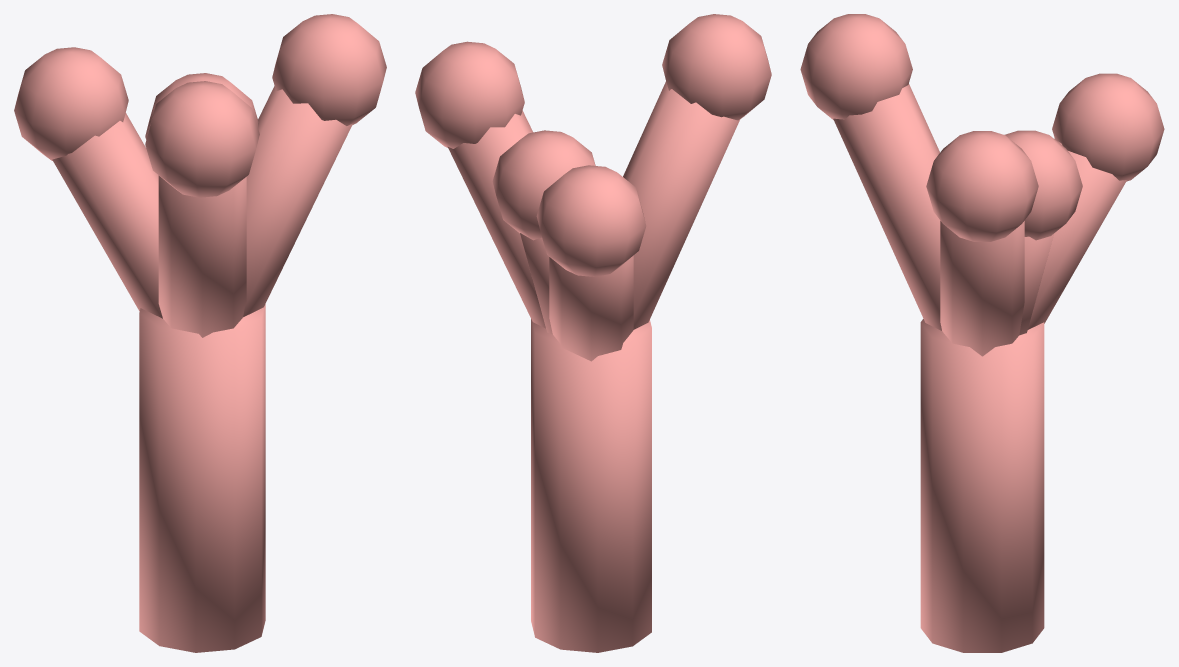
Rendered from Coral.fbx.
3 views of the same model, side by side, from view 1: azimuth 30°, elevation 25°; view 2: azimuth 150°, elevation 25°; view 3: azimuth 270°, elevation 25° (orthographic). The views are drawn at different scales.
Parts seen in each view (by area): view 1: Coral_Coral; view 2: Coral_Coral; view 3: Coral_Coral.
Part boxes in pixels (x1,y1,x2,y2): Coral_Coral: [14, 14, 386, 652]; Coral_Coral: [415, 14, 771, 652]; Coral_Coral: [800, 14, 1164, 652].
Size of the model in its own units: 114 by 227 by 129.
